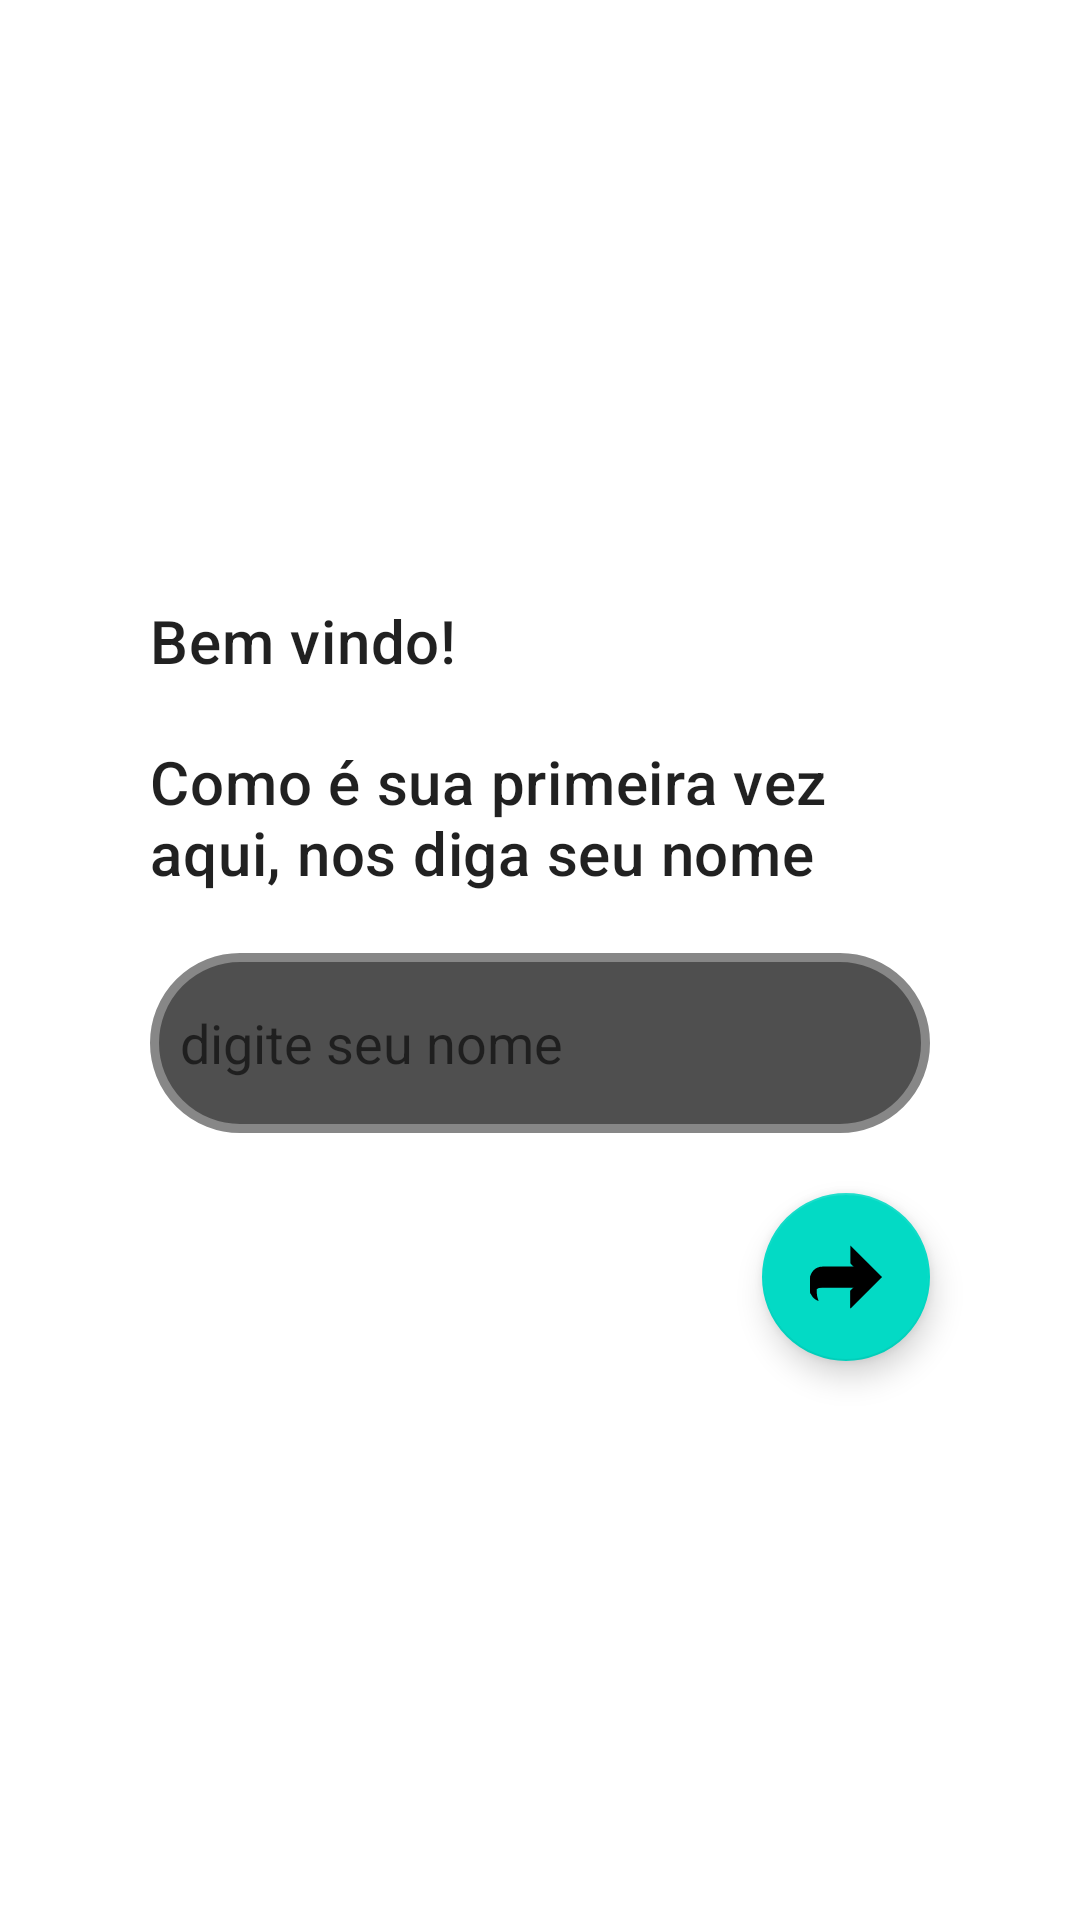

Icon click points for this 1080x1920 phone screenshot, format (x=x, y=y):
next: (x=846, y=1277)
